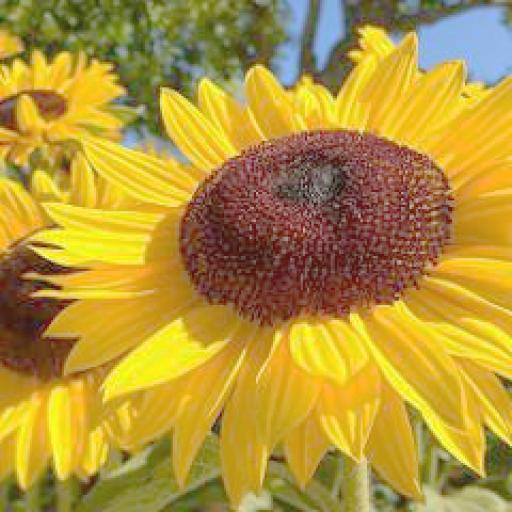sunflower: (59, 23, 512, 494)
